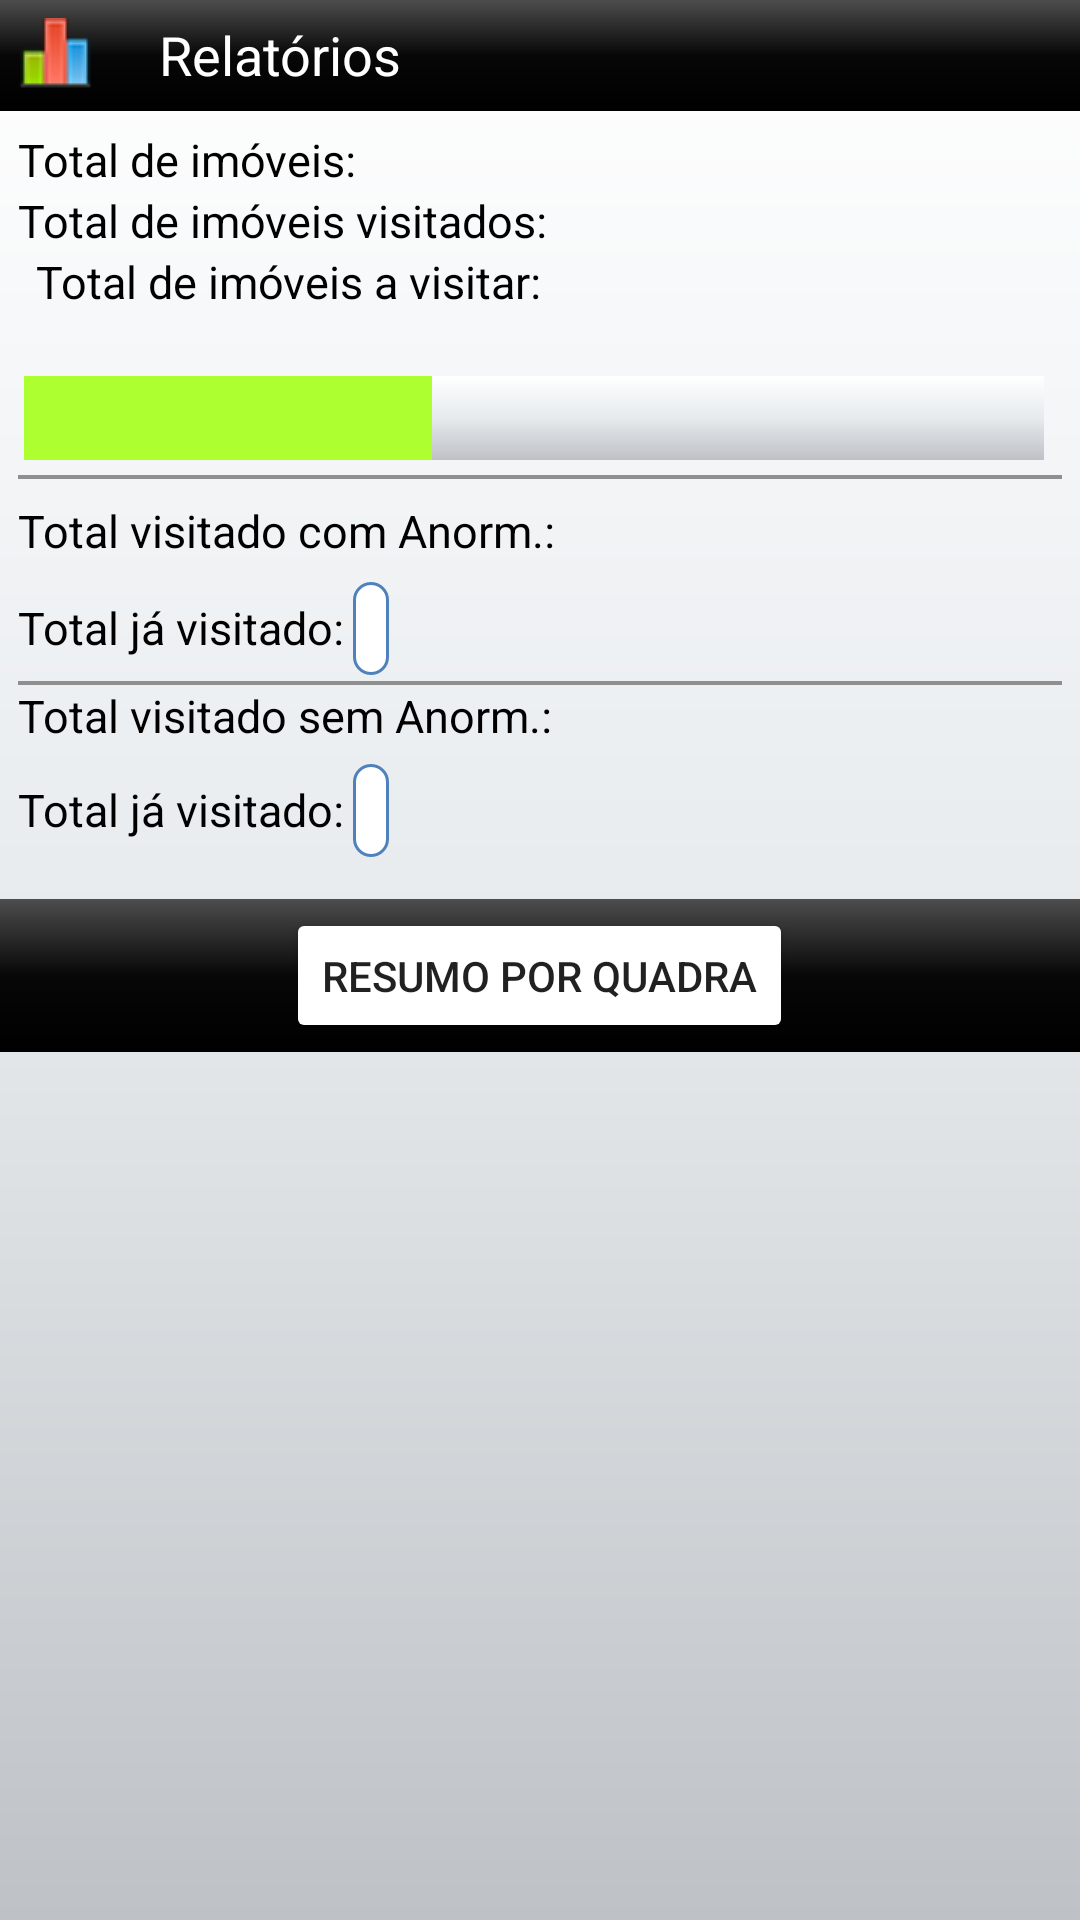

Named icons in this screenshot (1080x1920) and their centers, [x,y]:
chart bar: [55,55]
